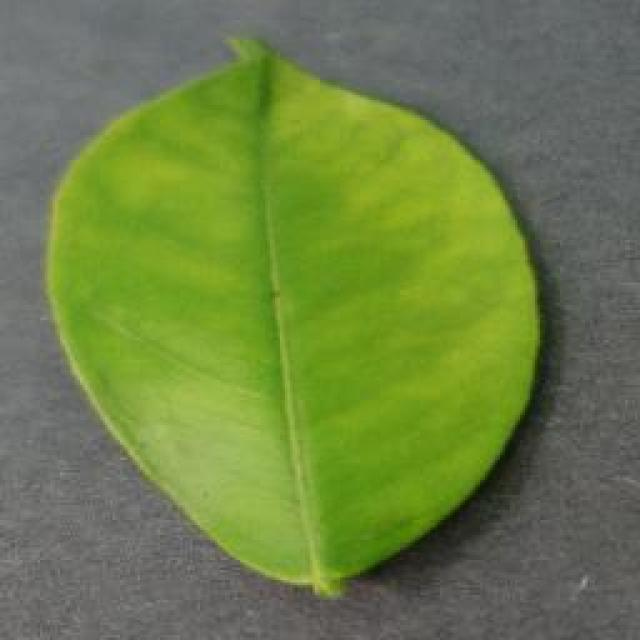Orange_Haunglongbing_Citrus_greening: (66, 84, 482, 541)
